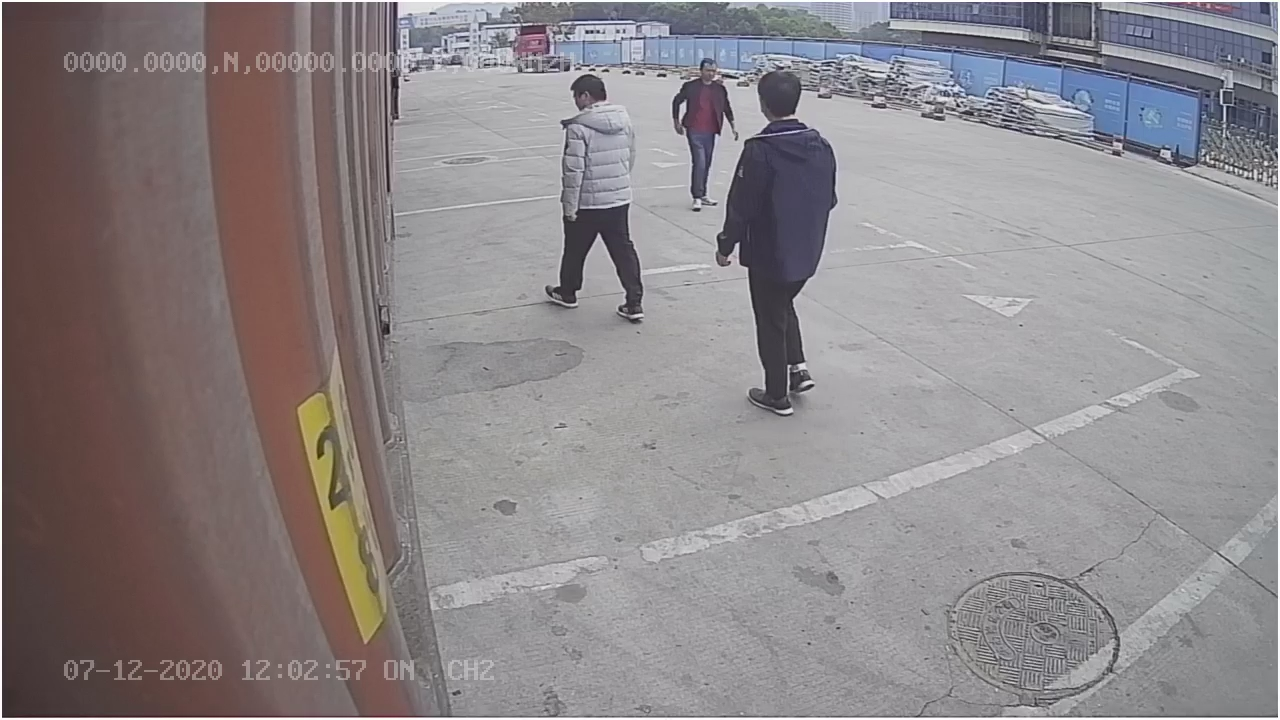person: (542, 73, 646, 323)
